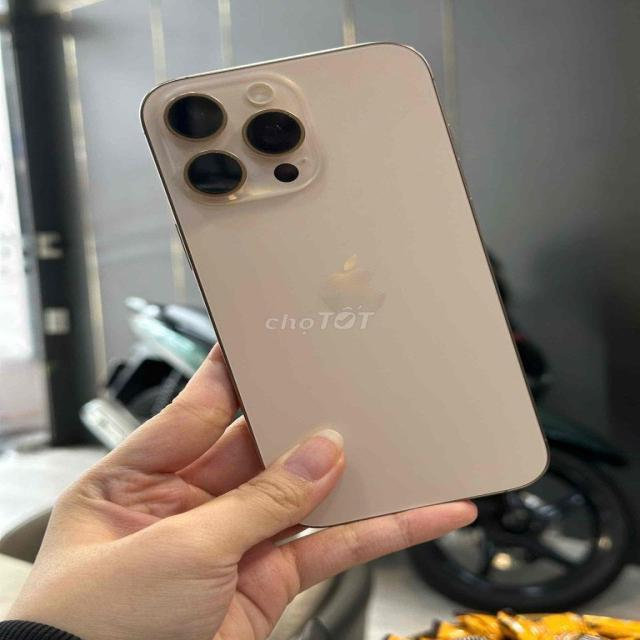gen_16: (141, 43, 547, 527)
